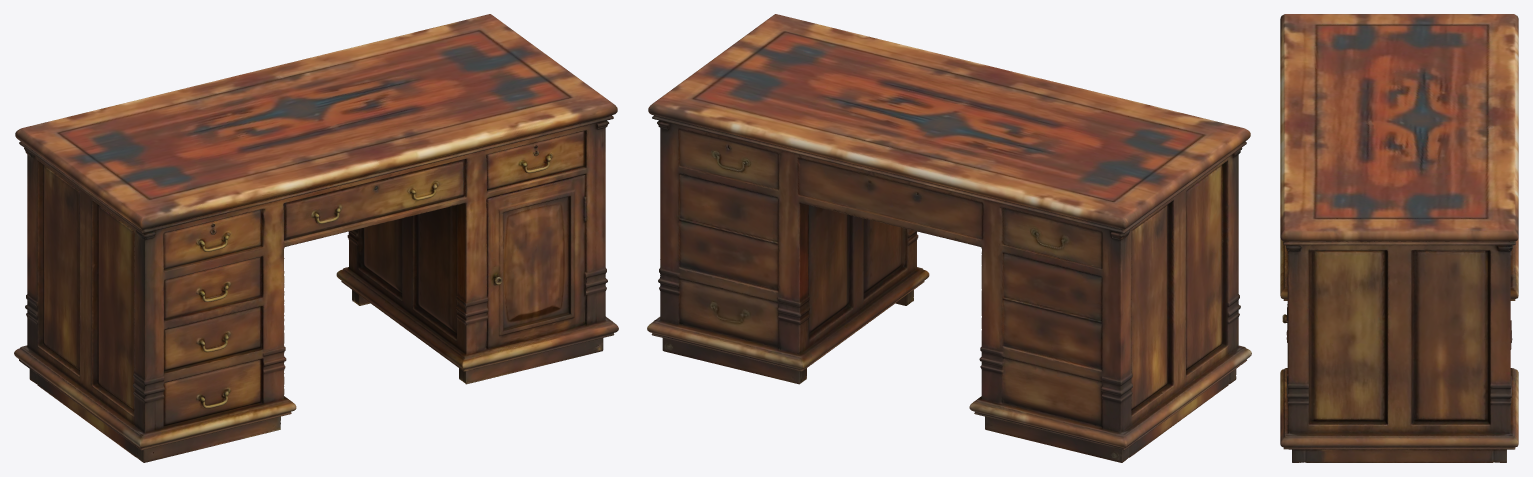
Rendered from bureau-comfyui-compressed.glb.
The picture shows the model from 3 angles, left to right: view 1: azimuth 30°, elevation 25°; view 2: azimuth 150°, elevation 25°; view 3: azimuth 270°, elevation 25°; orthographic projection. The views are drawn at different scales.
Size of the model in its own units: 1.9 by 0.9472 by 0.8677.
1 material, 1 textured.
